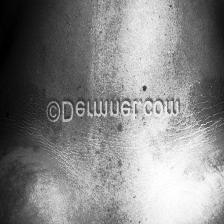Toxin: (0, 89, 59, 139), (0, 161, 36, 216)
